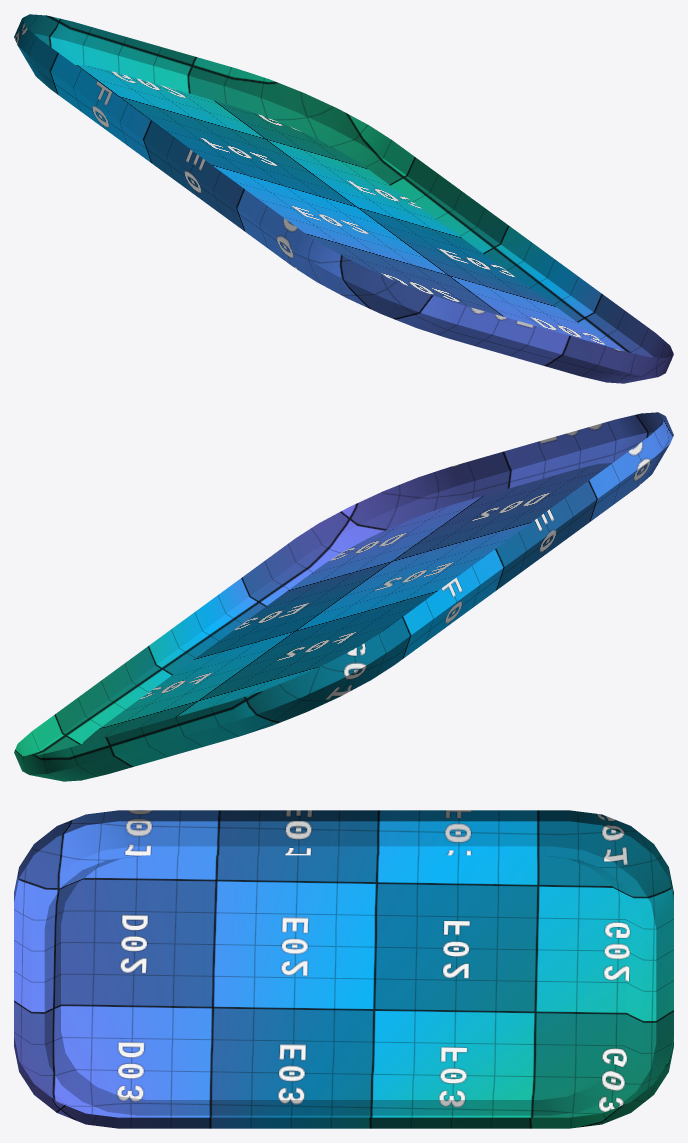
The model's file is SMallScreen_low.fbx.
3 views of the same model, one above another, from view 1: azimuth 30°, elevation 25°; view 2: azimuth 150°, elevation 25°; view 3: azimuth 270°, elevation 25° (orthographic). The views are drawn at different scales.
Parts seen in each view (by area): view 1: SMallScreen_low1; view 2: SMallScreen_low1; view 3: SMallScreen_low1.
Boxes of the visible parts, x1,y1,x2,y2 form: SMallScreen_low1: [14, 14, 673, 383]; SMallScreen_low1: [14, 412, 673, 781]; SMallScreen_low1: [14, 810, 673, 1128].
Bounding box in the file's own units: 28.03 × 15.76 × 51.92.
